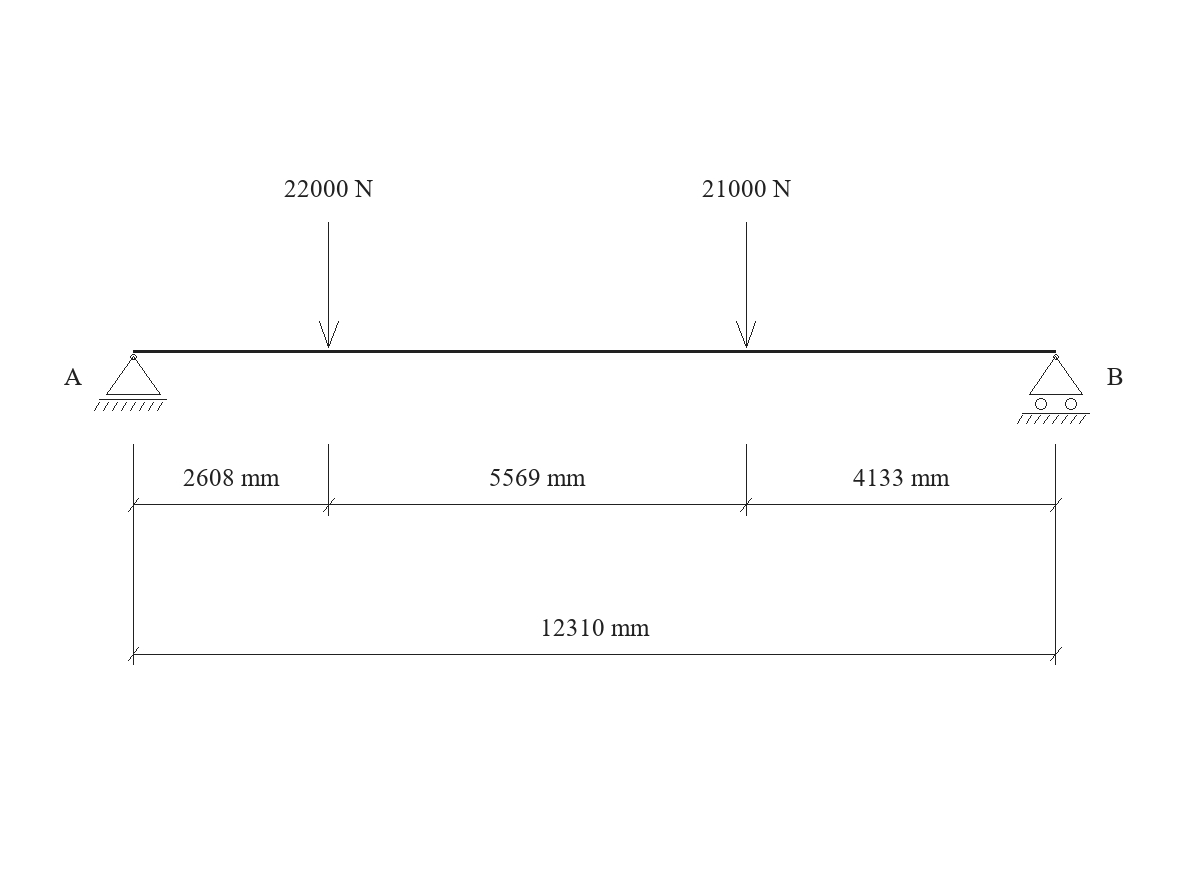pin_support: (94, 354, 167, 411)
point_load: (319, 222, 339, 348), (736, 222, 756, 348)
roller_support: (1017, 354, 1090, 424)
